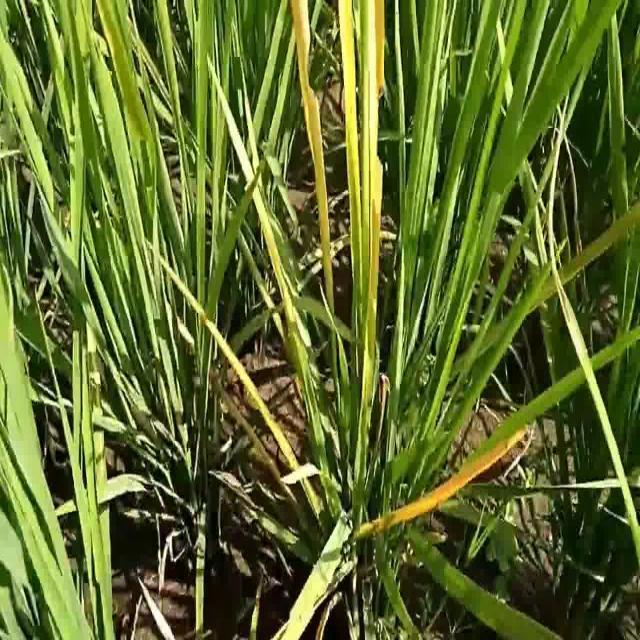Rice Tungro: (143, 235, 321, 524), (205, 46, 310, 408), (357, 425, 529, 546), (291, 2, 342, 345), (359, 4, 390, 334), (337, 3, 361, 283)
